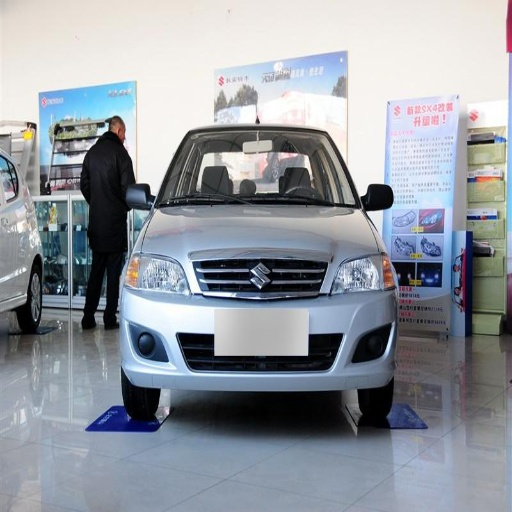front_bumper: (121, 260, 395, 391)
front_right_light: (124, 252, 190, 297)
hood: (147, 206, 377, 296)
